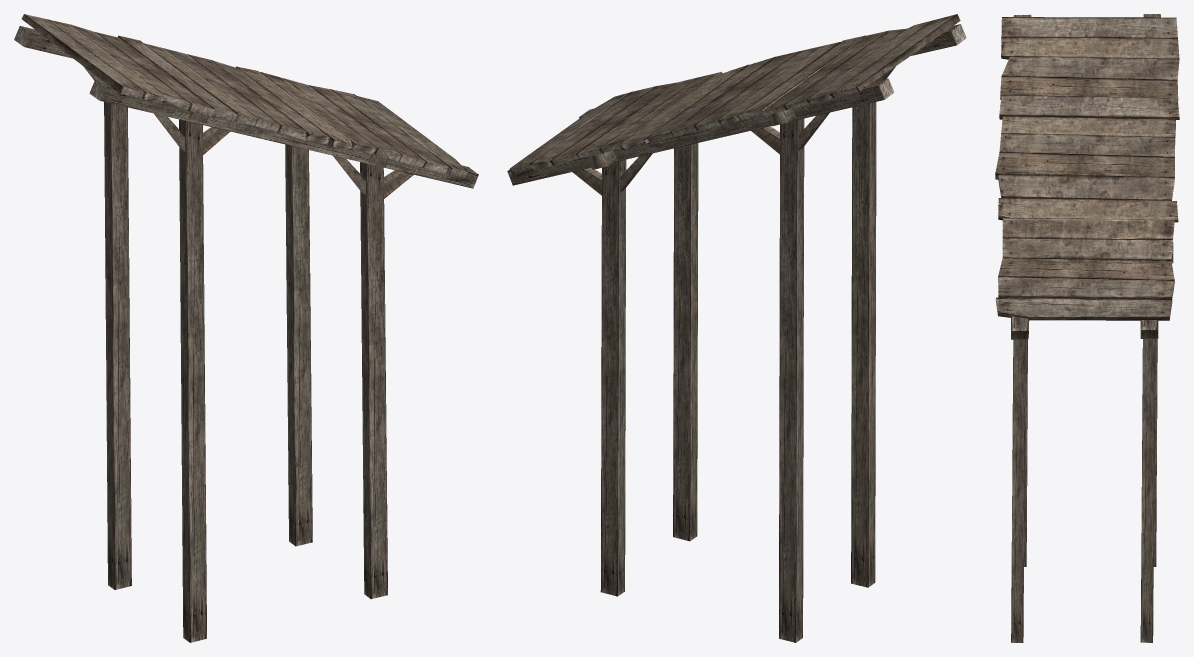
Rendered from d_sg_shouyou_matou02_qt.FBX.
The picture shows the model from 3 angles, left to right: view 1: azimuth 30°, elevation 25°; view 2: azimuth 150°, elevation 25°; view 3: azimuth 270°, elevation 25°; orthographic projection. The views are drawn at different scales.
Parts seen in each view (by area): view 1: d_sg_shouyou_matou01_qt; view 2: d_sg_shouyou_matou01_qt; view 3: d_sg_shouyou_matou01_qt.
Boxes of the visible parts, <box> form: d_sg_shouyou_matou01_qt: <box>14,14,478,642</box>; d_sg_shouyou_matou01_qt: <box>507,14,966,642</box>; d_sg_shouyou_matou01_qt: <box>995,14,1179,642</box>.
Size of the model in its own units: 13.89 by 20.3 by 6.64.
